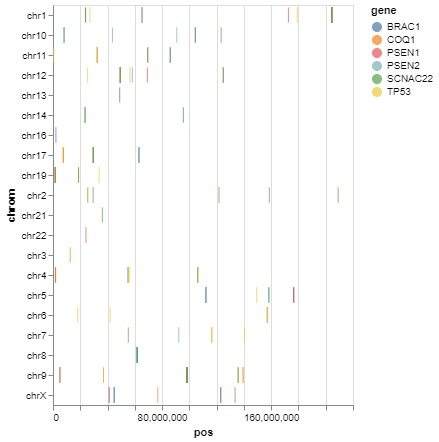

What the dashboard file says about the page in this screenshot:
{"tool":"tableau","page":{"name":"Dashboard 1","canvas":[700,450],"ordinal":0},"visuals":[{"type":"worksheet","title":"Visualização F)","mark":"Bar","rows":["domain"],"cols":["task selection eval"],"box":[8,8,524,434]},{"type":"legend","title":"Visualização F)","param":"[federated.111kkvj1kjoige17h88zm1vd9ajn].[avg:task selection eval:qk]","box":[532,8,160,65]}]}

Visuals, with their boxes on the page's 700x450 design canvas (x1, y1, x2, y2). These are canvas units, not pixel positions in the 439x442 screenshot, which may show the page scaled, cropped or inside an application window:
"Visualização F)" worksheet (Bar marks): left=8, top=8, right=532, bottom=442
"Visualização F)" legend: left=532, top=8, right=692, bottom=73
